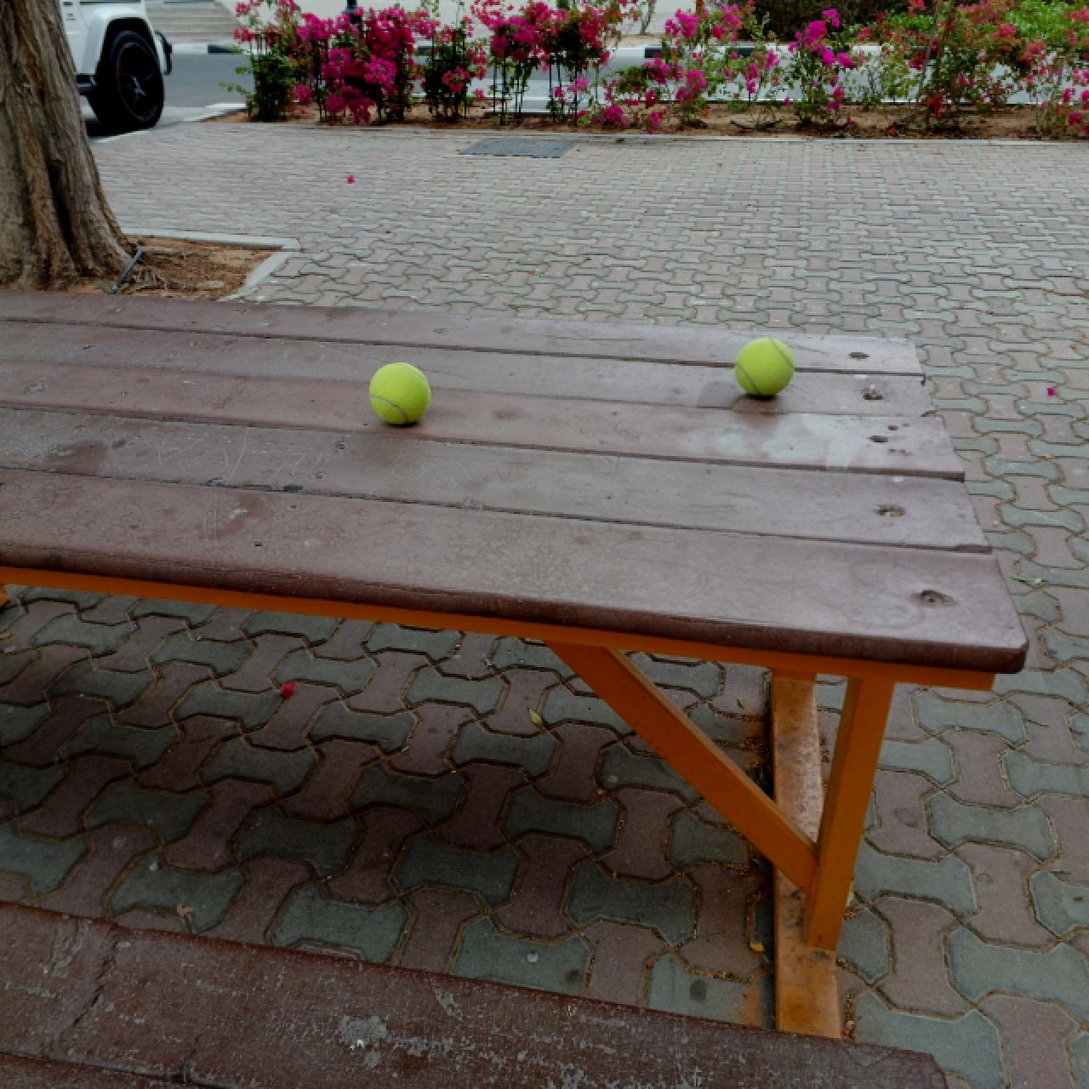tennis-ball: (368, 360, 433, 430), (733, 334, 797, 404)
